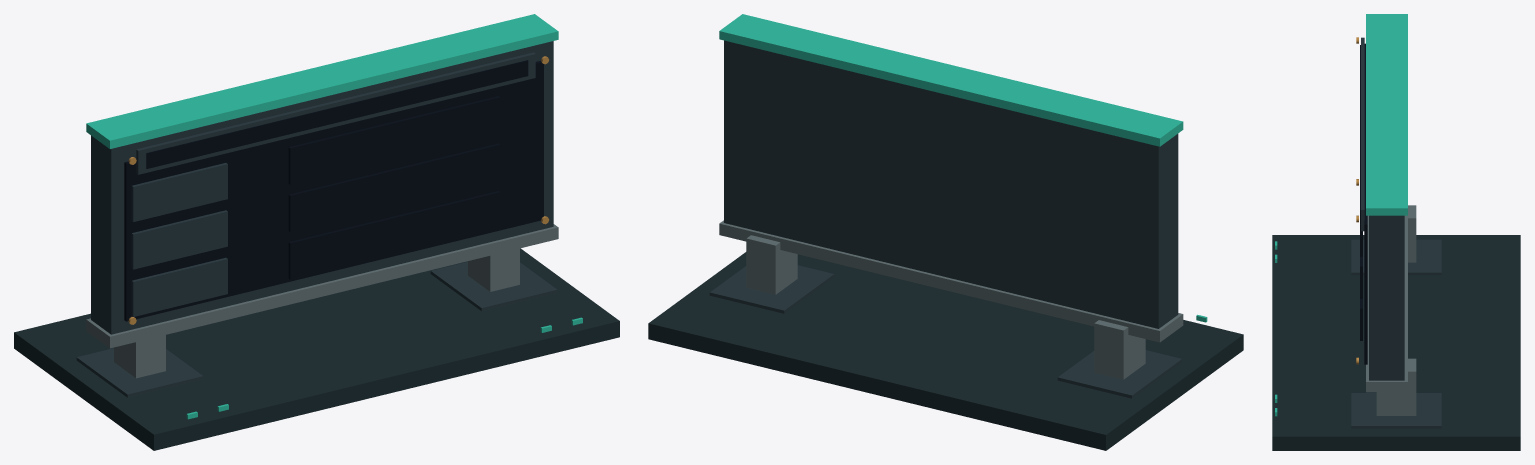
File: beacon_rivalry_d0_lod0.meshopt.glb
3 views of the same model, side by side, from view 1: azimuth 30°, elevation 25°; view 2: azimuth 150°, elevation 25°; view 3: azimuth 270°, elevation 25° (orthographic). The views are drawn at different scales.
Parts seen in each view (by area): view 1: RIVALRY_STRUCTURE; view 2: RIVALRY_STRUCTURE; view 3: RIVALRY_STRUCTURE.
Boxes of the visible parts, box(x1,y1,x2,y2) form: RIVALRY_STRUCTURE: box(14, 14, 619, 450); RIVALRY_STRUCTURE: box(648, 14, 1243, 450); RIVALRY_STRUCTURE: box(1272, 14, 1520, 450).
Bounding box in the file's own units: 7.5 × 4.14 × 3.9.
